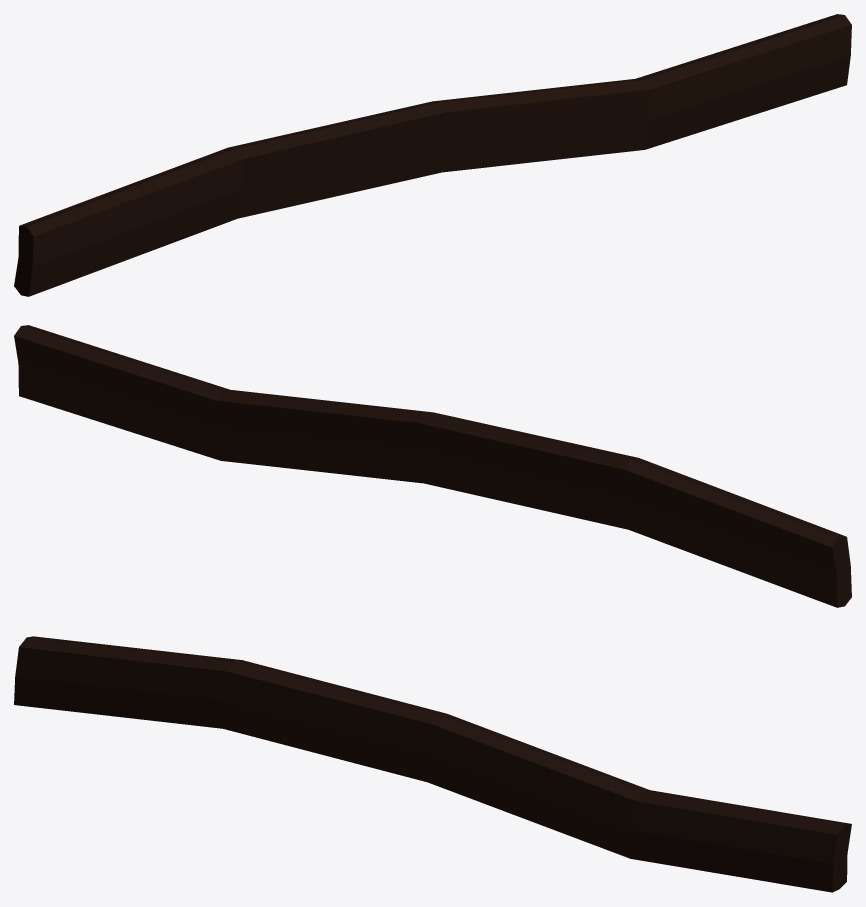
The model's file is BoardMed_FBX.fbx.
3 renders of one model, top to bottom at view 1: azimuth 30°, elevation 25°; view 2: azimuth 150°, elevation 25°; view 3: azimuth 330°, elevation 25°, orthographic.
Visible parts, largest first — view 1: Plank_Med; view 2: Plank_Med; view 3: Plank_Med.
Part boxes in pixels (left/top/right/bottom): Plank_Med: left=14, top=14, right=851, bottom=296; Plank_Med: left=14, top=325, right=851, bottom=607; Plank_Med: left=14, top=636, right=851, bottom=892.
Bounding box in the file's own units: 269 × 30.49 × 9.72.
